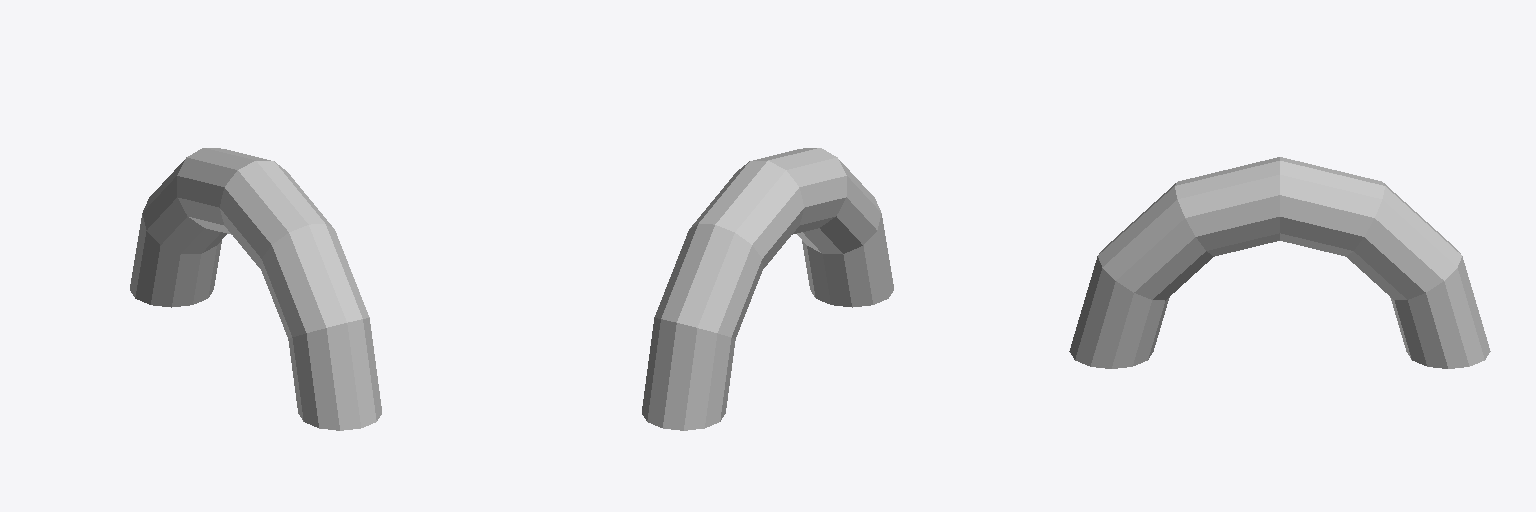
The model's file is Start.obj.
The picture shows the model from 3 angles: view 1: azimuth 30°, elevation 25°; view 2: azimuth 150°, elevation 25°; view 3: azimuth 270°, elevation 25°; orthographic projection.
Parts seen in each view (by area): view 1: Torus; view 2: Torus; view 3: Torus.
Part boxes in pixels (left/top/right/bottom): Torus: left=130, top=148, right=381, bottom=430; Torus: left=642, top=148, right=893, bottom=430; Torus: left=1069, top=157, right=1490, bottom=368.
Size of the model in its own units: 0.5 by 1.25 by 2.5.